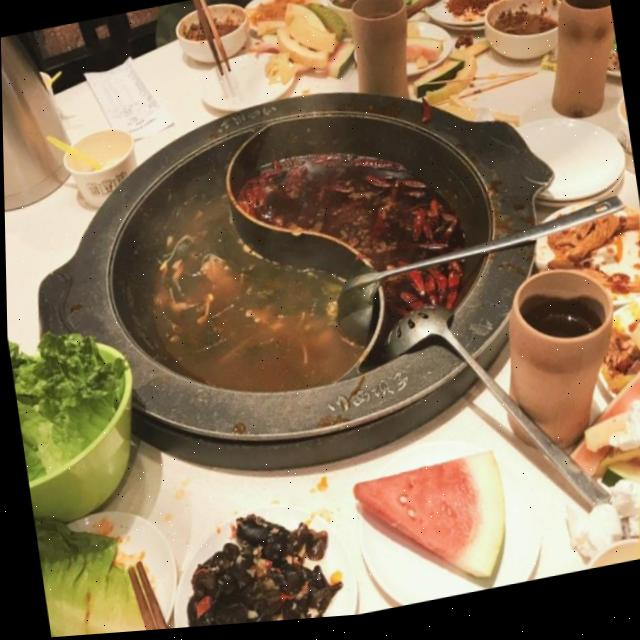Wet: (346, 454, 513, 609), (554, 369, 640, 564), (252, 0, 359, 98), (400, 26, 497, 116)
